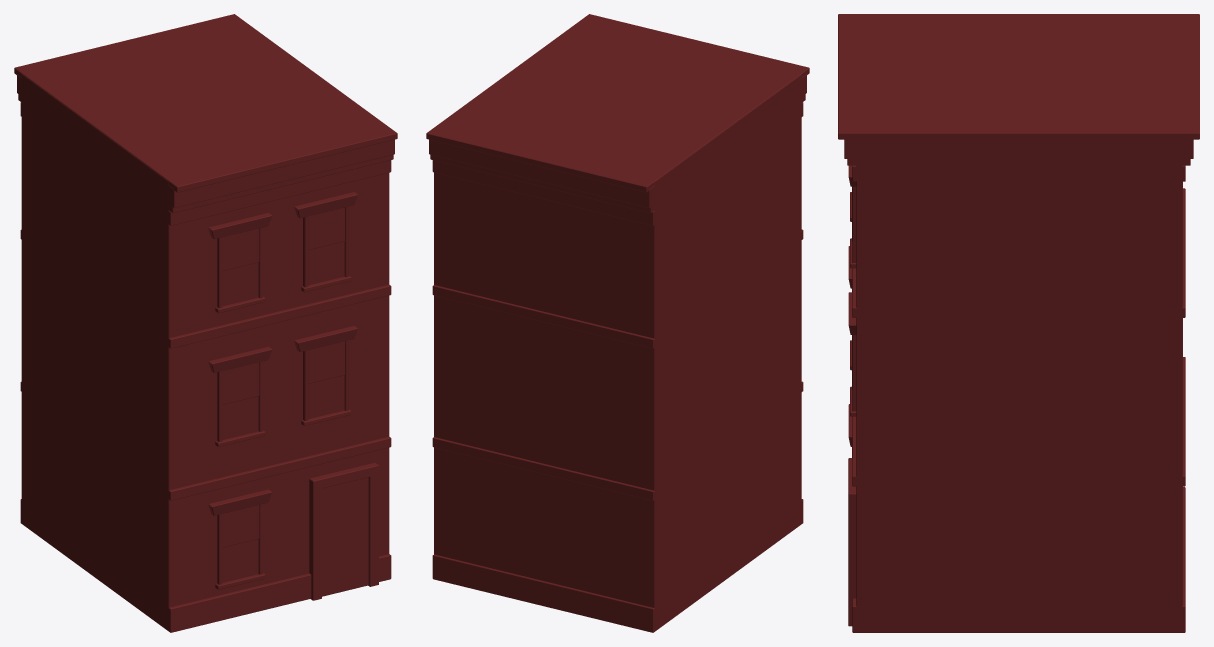
The model's file is AS_Building_Terrace_L.FBX.
3 views of the same model, side by side, from view 1: azimuth 30°, elevation 25°; view 2: azimuth 150°, elevation 25°; view 3: azimuth 270°, elevation 25° (orthographic). The views are drawn at different scales.
Parts seen in each view (by area): view 1: Main_L, Top_L, Window_Pane_L, Decor_L, Window_L, Door_L, Door_Frame_L; view 2: Main_L, Top_L, Decor_L; view 3: Main_L, Top_L, Decor_L, Window_L, Door_Frame_L.
Boxes of the visible parts, bbox=[...] form: Main_L: bbox=[21, 74, 389, 628]; Top_L: bbox=[14, 14, 397, 225]; Window_Pane_L: bbox=[222, 207, 344, 582]; Decor_L: bbox=[20, 229, 391, 632]; Window_L: bbox=[208, 192, 357, 589]; Door_L: bbox=[322, 477, 368, 596]; Door_Frame_L: bbox=[309, 462, 378, 600]; Main_L: bbox=[434, 75, 801, 629]; Top_L: bbox=[426, 14, 809, 225]; Decor_L: bbox=[432, 229, 803, 632]; Main_L: bbox=[856, 134, 1182, 630]; Top_L: bbox=[838, 14, 1199, 181]; Decor_L: bbox=[852, 188, 1185, 632]; Window_L: bbox=[848, 165, 856, 457]; Door_Frame_L: bbox=[848, 458, 856, 626].
Bounding box in the file's own units: 448 × 876 × 573.
